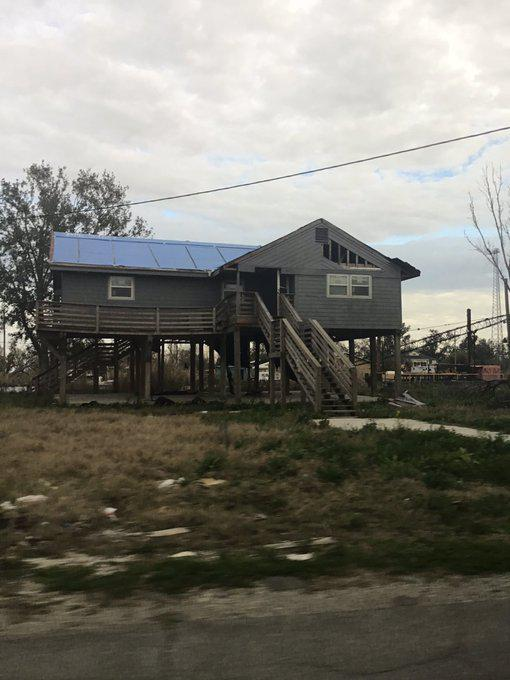major: (43, 203, 434, 408)
